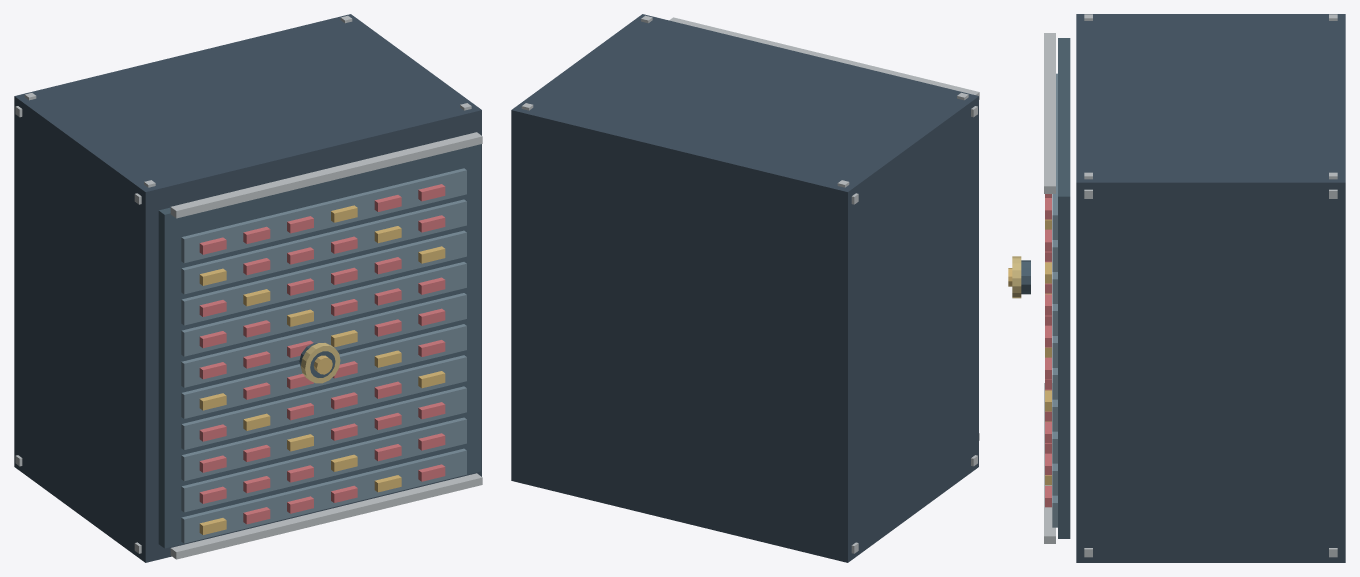
Rendered from 60_L81_EmergencyMissionSafeHoldStation.glb.
3 renders of one model, left to right at view 1: azimuth 30°, elevation 25°; view 2: azimuth 150°, elevation 25°; view 3: azimuth 270°, elevation 25°, orthographic. The views are drawn at different scales.
Parts seen in each view (by area): view 1: EmergencyMissionSafeHoldStation_Node_0000, EmergencyMissionSafeHoldStation_Node_0009, EmergencyMissionSafeHoldStation_Node_0017, EmergencyMissionSafeHoldStation_Node_0052, EmergencyMissionSafeHoldStation_Node_0066, EmergencyMissionSafeHoldStation_Node_0031, EmergencyMissionSafeHoldStation_Node_0073, EmergencyMissionSafeHoldStation_Node_0010, EmergencyMissionSafeHoldStation_Node_0059, EmergencyMissionSafeHoldStation_Node_0024, EmergencyMissionSafeHoldStation_Node_0045, EmergencyMissionSafeHoldStation_Node_0038 (+3 smaller); view 2: EmergencyMissionSafeHoldStation_Node_0000, EmergencyMissionSafeHoldStation_Node_0081; view 3: EmergencyMissionSafeHoldStation_Node_0000, EmergencyMissionSafeHoldStation_Node_0009, EmergencyMissionSafeHoldStation_Node_0081, EmergencyMissionSafeHoldStation_Node_0080, EmergencyMissionSafeHoldStation_Node_0073, EmergencyMissionSafeHoldStation_Node_0093.
Boxes of the visible parts, x1,y1,x2,y2 form: EmergencyMissionSafeHoldStation_Node_0000: [14, 14, 481, 562]; EmergencyMissionSafeHoldStation_Node_0009: [158, 144, 480, 548]; EmergencyMissionSafeHoldStation_Node_0017: [181, 417, 466, 512]; EmergencyMissionSafeHoldStation_Node_0052: [181, 262, 466, 356]; EmergencyMissionSafeHoldStation_Node_0066: [181, 199, 466, 294]; EmergencyMissionSafeHoldStation_Node_0031: [181, 355, 466, 449]; EmergencyMissionSafeHoldStation_Node_0073: [181, 168, 466, 263]; EmergencyMissionSafeHoldStation_Node_0010: [181, 448, 466, 543]; EmergencyMissionSafeHoldStation_Node_0059: [181, 230, 466, 325]; EmergencyMissionSafeHoldStation_Node_0024: [181, 386, 466, 481]; EmergencyMissionSafeHoldStation_Node_0045: [181, 293, 466, 387]; EmergencyMissionSafeHoldStation_Node_0038: [181, 324, 466, 418]; EmergencyMissionSafeHoldStation_Node_0000: [511, 14, 978, 562]; EmergencyMissionSafeHoldStation_Node_0081: [669, 17, 979, 99]; EmergencyMissionSafeHoldStation_Node_0000: [1076, 14, 1345, 562]; EmergencyMissionSafeHoldStation_Node_0009: [1058, 38, 1070, 538]; EmergencyMissionSafeHoldStation_Node_0081: [1044, 33, 1055, 193]; EmergencyMissionSafeHoldStation_Node_0080: [1044, 383, 1055, 543]; EmergencyMissionSafeHoldStation_Node_0073: [1052, 73, 1057, 239]; EmergencyMissionSafeHoldStation_Node_0093: [1012, 256, 1021, 298].
Bounding box in the file's own units: 1.16 × 1.22 × 0.9645.
